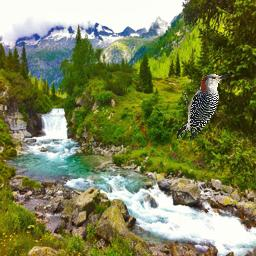Woodpecker: (177, 73, 230, 141)
